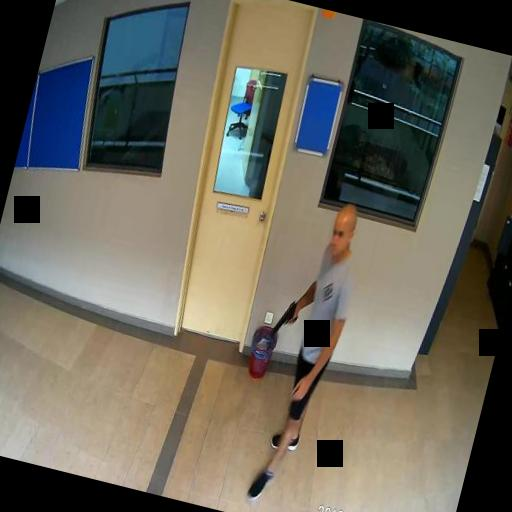Handgun: (272, 296, 300, 336)
